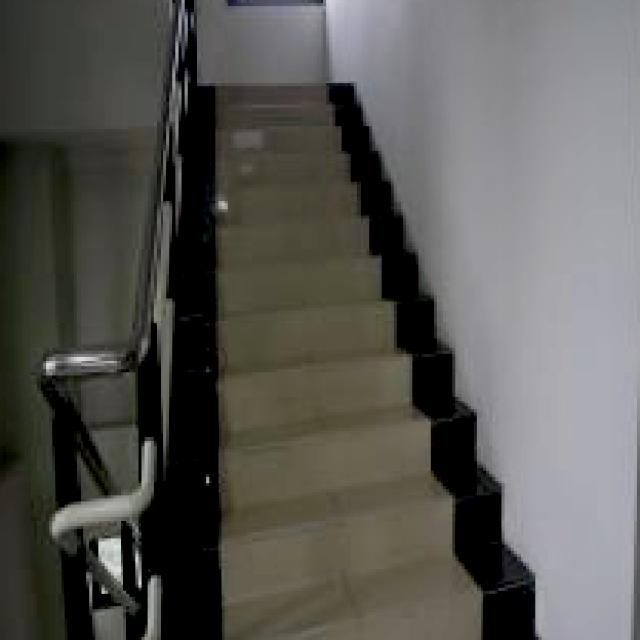upstair: (186, 130, 407, 635)
